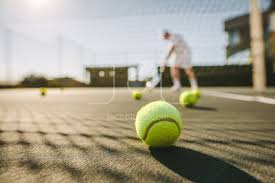tennis_ball: (134, 99, 182, 147), (180, 91, 198, 109), (132, 89, 143, 101), (39, 87, 48, 97)
